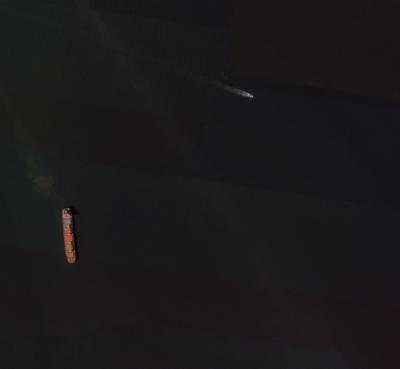Ships: (56, 199, 78, 270), (223, 75, 265, 112)
